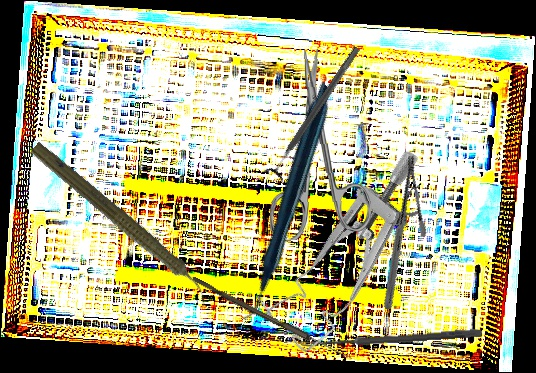Fixation Ring: (263, 41, 368, 185)
Handpiece: (157, 81, 411, 321), (24, 138, 219, 308)
Iris Scissors: (264, 47, 372, 242)
Needle Holder: (338, 154, 461, 311)
Speculum: (240, 146, 469, 359)
Surgical Spoon: (190, 276, 354, 362), (299, 327, 483, 350)
